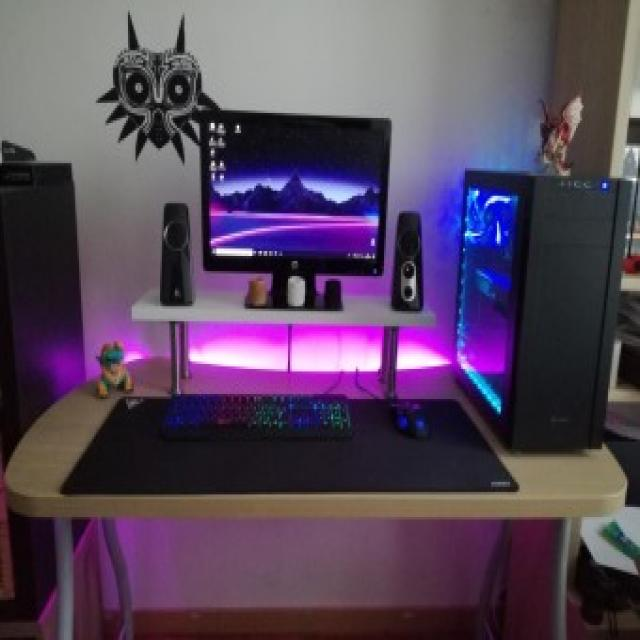Computer: (448, 157, 636, 457)
Monitor: (195, 102, 390, 290)
